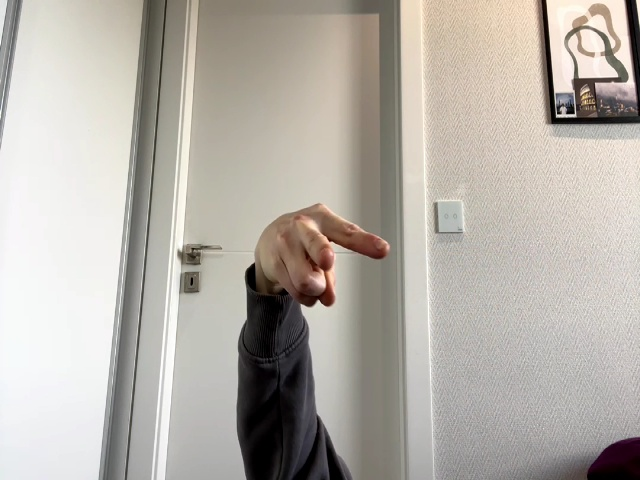U: (254, 204, 389, 306)
